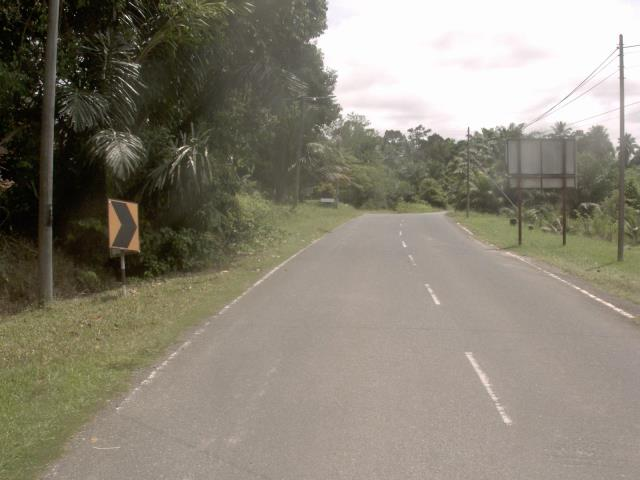traffic_sign: (99, 191, 148, 262)
